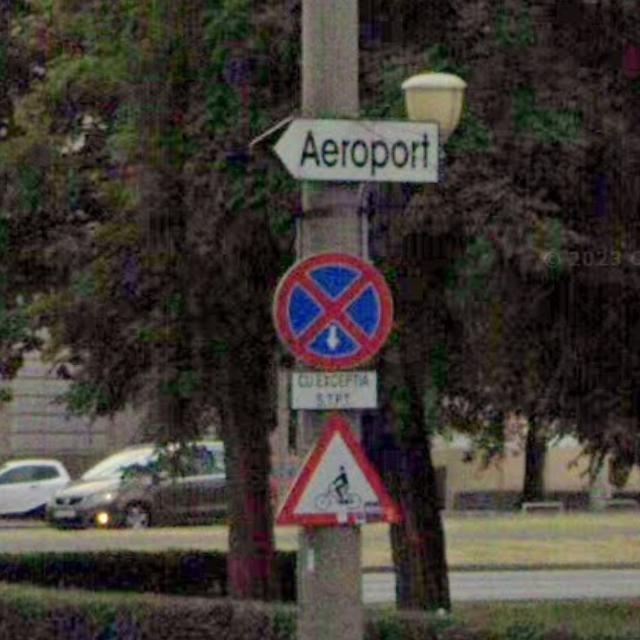forb_waiting: (272, 251, 393, 371)
